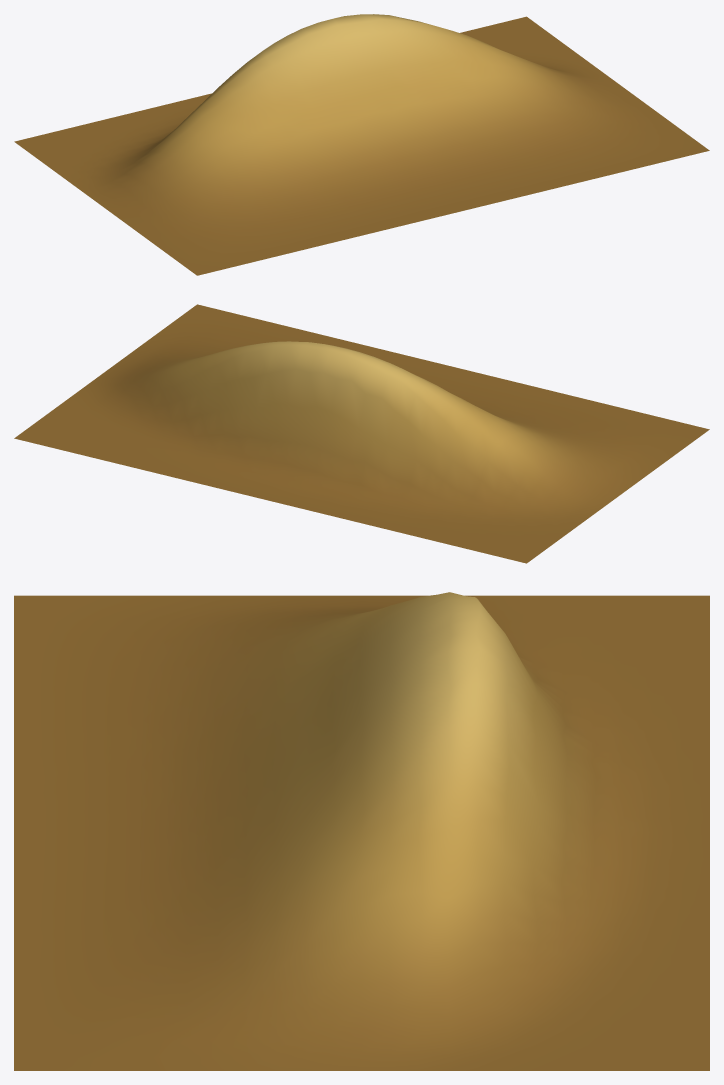
Rendered from Dune_Small.fbx.
3 views of the same model, one above another, from view 1: azimuth 30°, elevation 25°; view 2: azimuth 150°, elevation 25°; view 3: azimuth 270°, elevation 25° (orthographic). The views are drawn at different scales.
Parts seen in each view (by area): view 1: Dune_Small; view 2: Dune_Small; view 3: Dune_Small.
Boxes of the visible parts, box(x1,y1,x2,y2) form: Dune_Small: box(14, 14, 709, 275); Dune_Small: box(14, 304, 709, 563); Dune_Small: box(14, 592, 709, 1070).
Bounding box in the file's own units: 840 × 165 × 520.
